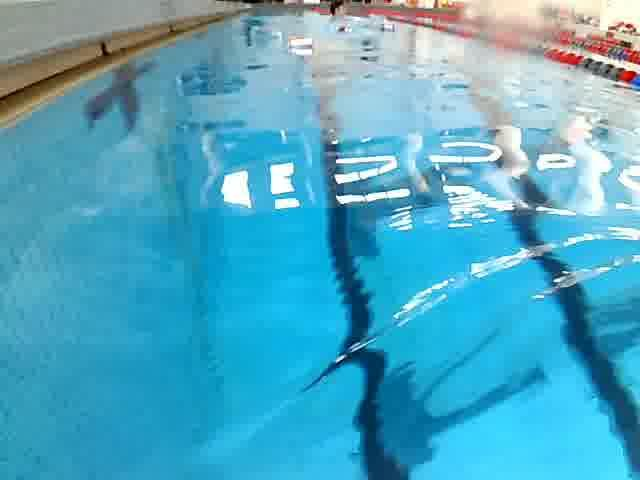Can: (286, 32, 318, 54)
